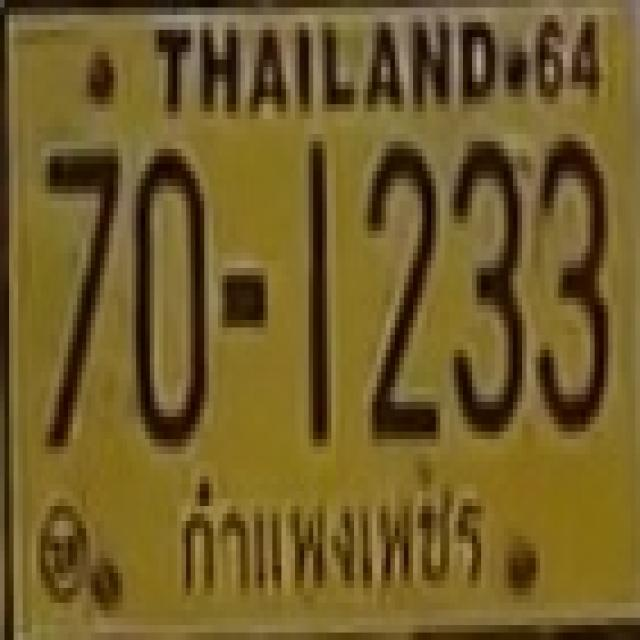0: (132, 141, 204, 439)
1: (304, 138, 327, 442)
2: (363, 138, 436, 435)
3: (533, 130, 606, 428), (450, 134, 518, 432)
7: (41, 142, 118, 446), (41, 142, 118, 358)
KPT: (172, 466, 494, 604)
